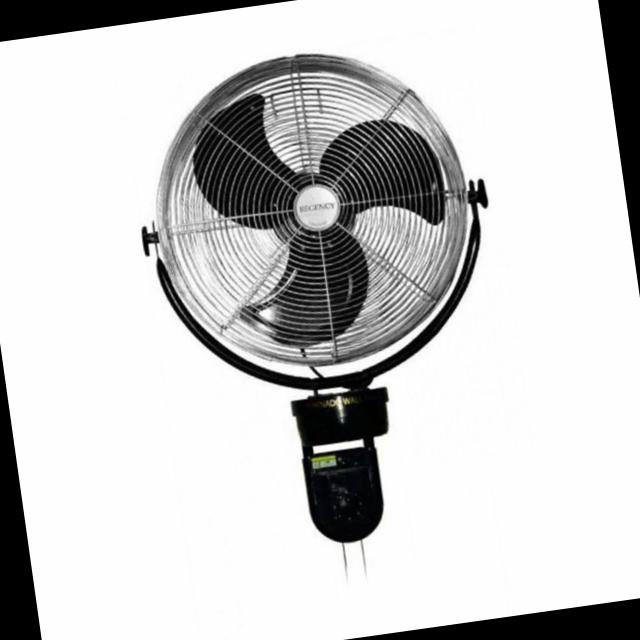fan: (93, 11, 546, 596)
